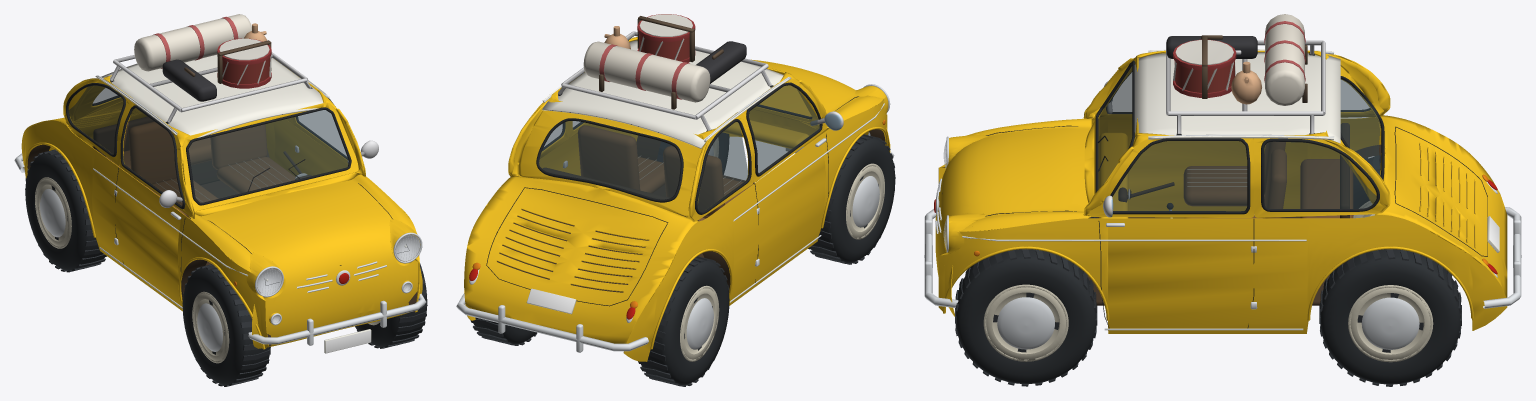
Rendered from seat600.glb.
3 renders of one model, left to right at view 1: azimuth 30°, elevation 25°; view 2: azimuth 150°, elevation 25°; view 3: azimuth 270°, elevation 25°, orthographic. The views are drawn at different scales.
Parts seen in each view (by area): view 1: shell72_own, glass_f6, body, wheel_fr, wheel_rr, wheel_fl; view 2: shell72_own, glass_f6, body, wheel_rr, wheel_fr, wheel_rl, wheel_fl; view 3: shell72_own, glass_f6, wheel_rl, wheel_fl, body, wheel_rr.
Part boxes in pixels (x1,y1,x2,y2): shell72_own: (14,55,426,353); glass_f6: (68,85,348,206); body: (110,14,378,207); wheel_fr: (182,264,270,386); wheel_rr: (25,149,106,272); wheel_fl: (355,252,427,348); shell72_own: (456,37,894,361); glass_f6: (539,85,820,211); body: (558,14,843,130); wheel_rr: (638,256,729,386); wheel_fr: (808,134,895,264); wheel_rl: (470,317,537,345); wheel_fl: (657,132,729,174); shell72_own: (924,49,1521,333); glass_f6: (1098,66,1380,211); wheel_rl: (1319,249,1461,386); wheel_fl: (955,249,1097,386); body: (1103,14,1325,217); wheel_rr: (1353,155,1380,218).
Size of the model in its own units: 1.61 by 1.8 by 3.28.
